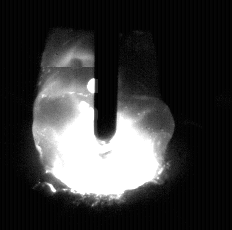arame: (95, 0, 118, 143)
poca: (34, 0, 168, 230)
